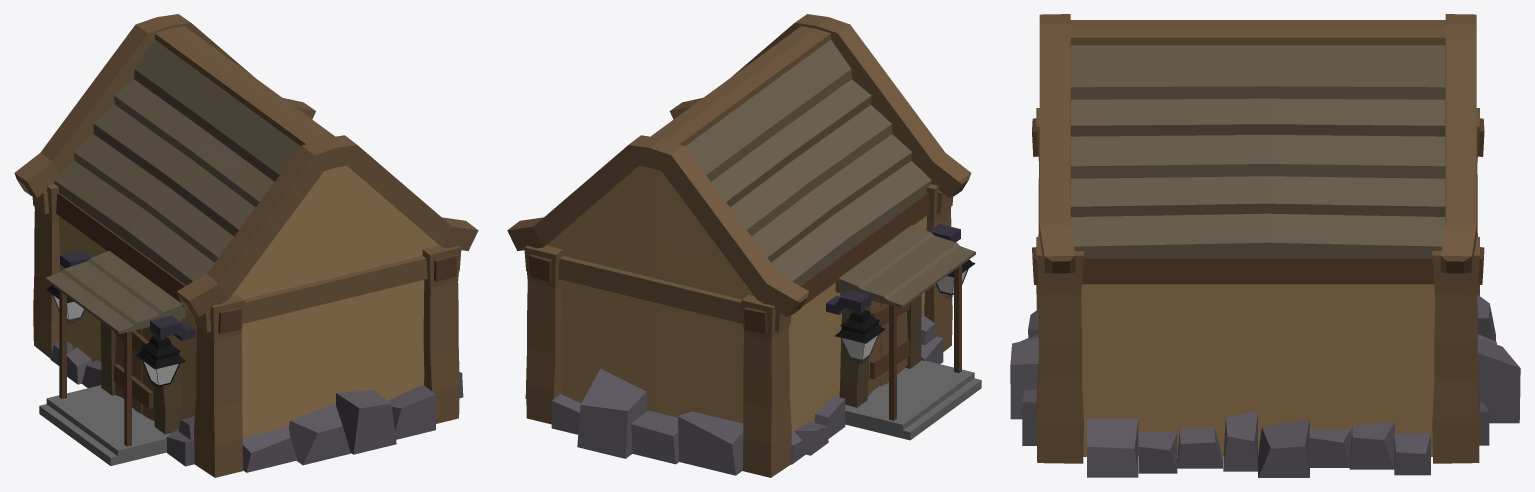
Rendered from casa 1 com porta.fbx.
The picture shows the model from 3 angles, left to right: view 1: azimuth 30°, elevation 25°; view 2: azimuth 150°, elevation 25°; view 3: azimuth 270°, elevation 25°; orthographic projection. The views are drawn at different scales.
Parts seen in each view (by area): view 1: casa, porta, pedras.010, madeira porta, porta.007, negocinho feio.012, negocinho feio.010; view 2: casa, porta, pedras.010, madeira porta, porta.007, negocinho feio.017, negocinho feio.015; view 3: casa, pedras.010.
Boxes of the visible parts, box(x1,y1,x2,y2) form: casa: box(14, 14, 478, 477); porta: box(39, 250, 185, 465); pedras.010: box(50, 339, 463, 472); madeira porta: box(100, 321, 182, 434); porta.007: box(113, 327, 154, 420); negocinho feio.012: box(135, 335, 185, 369); negocinho feio.010: box(150, 315, 195, 340); casa: box(507, 14, 971, 477); porta: box(835, 225, 981, 440); pedras.010: box(525, 315, 943, 475); madeira porta: box(839, 294, 921, 407); porta.007: box(868, 301, 909, 395); negocinho feio.017: box(835, 310, 885, 343); negocinho feio.015: box(826, 289, 871, 314); casa: box(1032, 14, 1484, 463); pedras.010: box(1010, 294, 1520, 477).
Bounding box in the file's own units: 3948 × 3371 × 4247.
